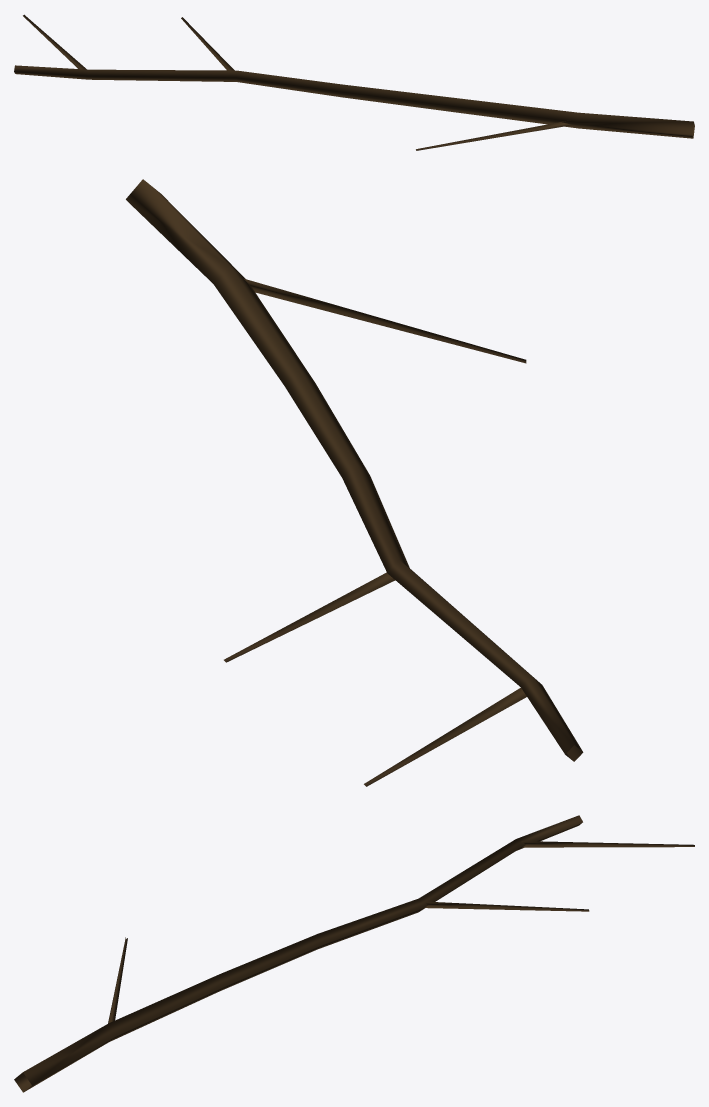
The model's file is GroundCover_Branch_01.glb.
The picture shows the model from 3 angles, top to bottom: view 1: azimuth 30°, elevation 25°; view 2: azimuth 150°, elevation 25°; view 3: azimuth 270°, elevation 25°; orthographic projection. The views are drawn at different scales.
Parts seen in each view (by area): view 1: GroundCover_Branch_01; view 2: GroundCover_Branch_01; view 3: GroundCover_Branch_01.
Boxes of the visible parts, x1,y1,x2,y2 form: GroundCover_Branch_01: (14, 14, 694, 150); GroundCover_Branch_01: (126, 179, 583, 786); GroundCover_Branch_01: (14, 815, 694, 1092).
Bounding box in the file's own units: 0.441 × 0.019 × 0.4759.
